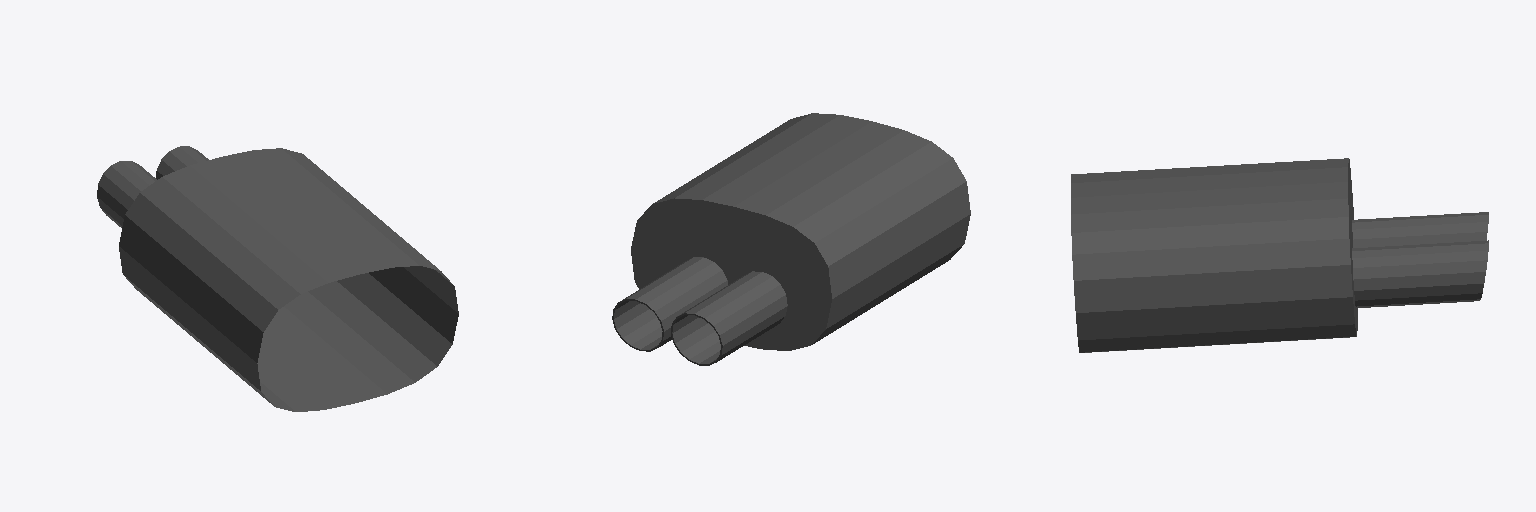
File: nissan_skyline_r34_exhaust.obj
The picture shows the model from 3 angles: view 1: azimuth 30°, elevation 25°; view 2: azimuth 150°, elevation 25°; view 3: azimuth 270°, elevation 25°; orthographic projection.
Visible parts, largest first — view 1: polySurface89; view 2: polySurface89; view 3: polySurface89.
Boxes of the visible parts, box(x1,y1,x2,y2) form: polySurface89: box(97, 146, 458, 411); polySurface89: box(612, 113, 970, 365); polySurface89: box(1071, 158, 1488, 352).
Size of the model in its own units: 0.8167 by 0.5752 by 1.47.